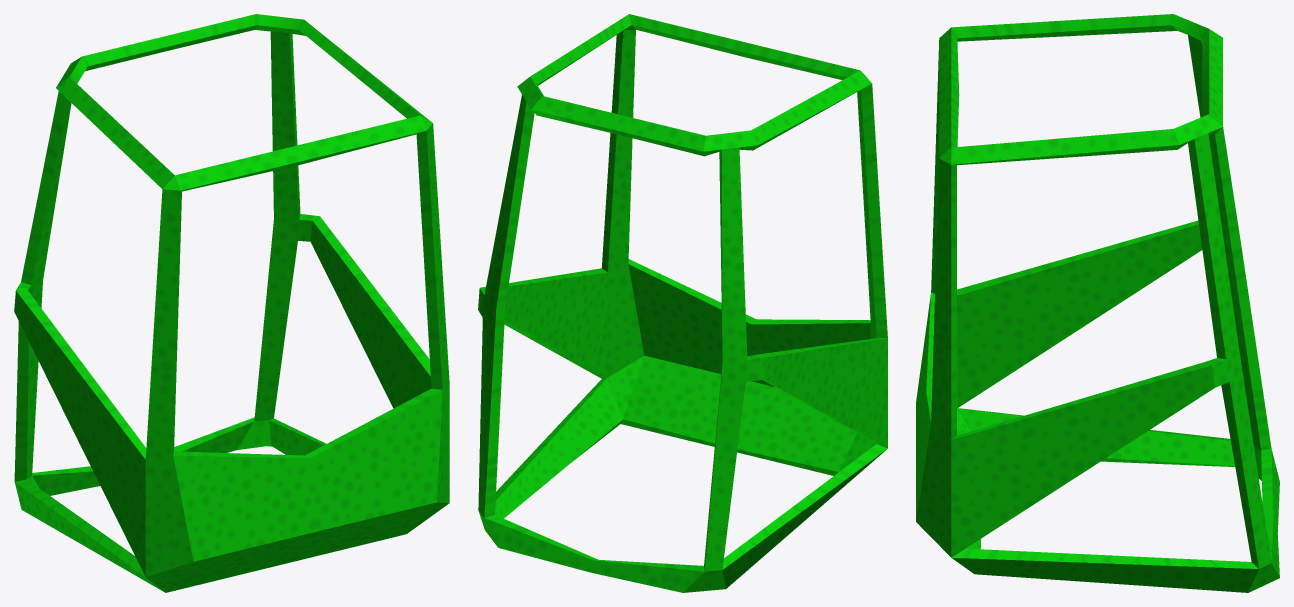
File: Speaker_cage_3rdCol_LOD0.fbx
3 renders of one model, left to right at view 1: azimuth 30°, elevation 25°; view 2: azimuth 150°, elevation 25°; view 3: azimuth 270°, elevation 25°, orthographic. The views are drawn at different scales.
Visible parts, largest first — view 1: Speaker_cage_3rdCol_LOD0; view 2: Speaker_cage_3rdCol_LOD0; view 3: Speaker_cage_3rdCol_LOD0.
Part boxes in pixels (bbox=[...]): Speaker_cage_3rdCol_LOD0: bbox=[14, 14, 449, 592]; Speaker_cage_3rdCol_LOD0: bbox=[478, 14, 887, 592]; Speaker_cage_3rdCol_LOD0: bbox=[916, 14, 1279, 592].
Bounding box in the file's own units: 94.56 × 138 × 97.75.
